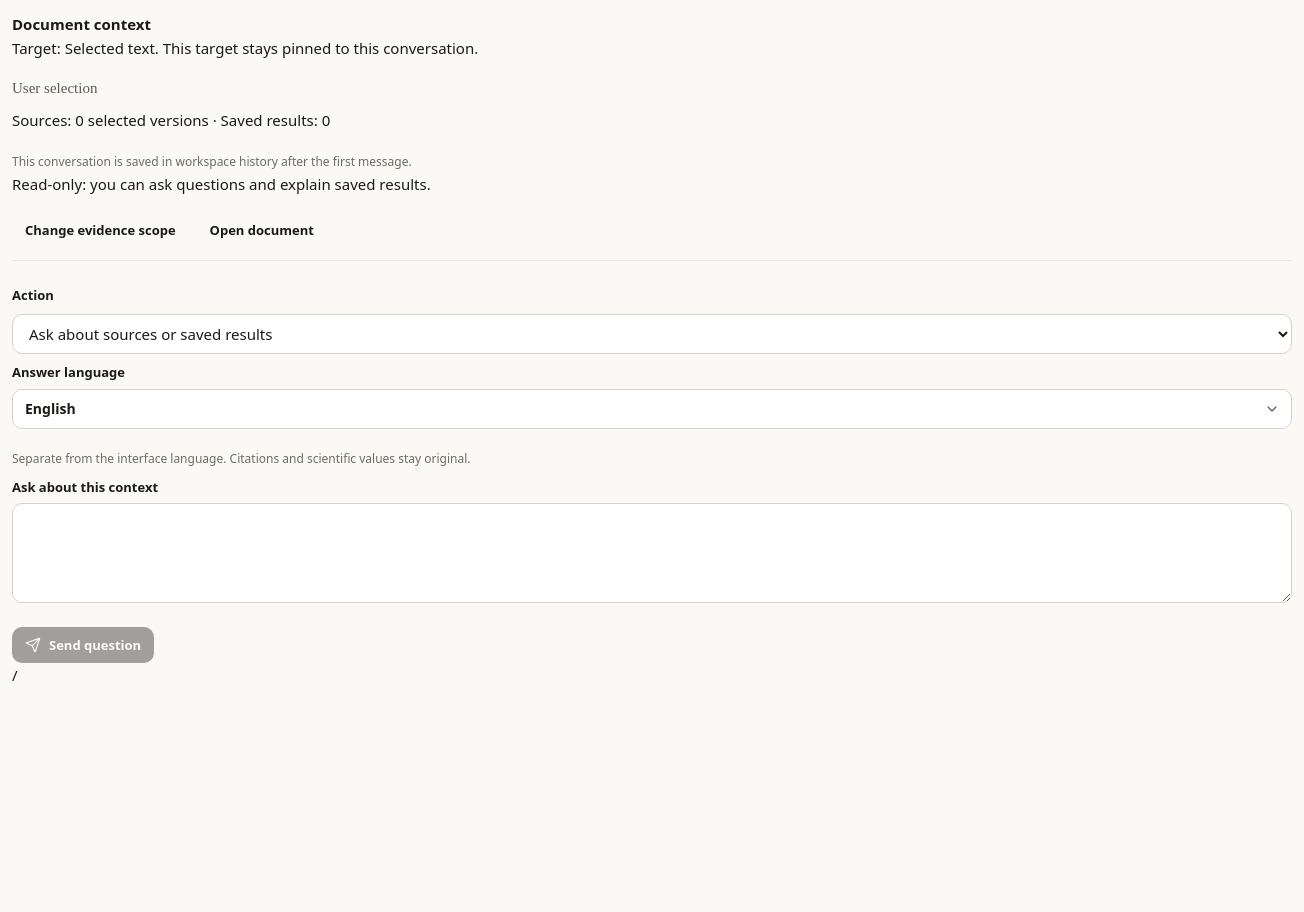
Test case: retries a lost first response with unchanged identities, context, instruction and scope
In the text box labelled "Ask about this context": (652, 553) [12,503,1292,603], type "Explain"
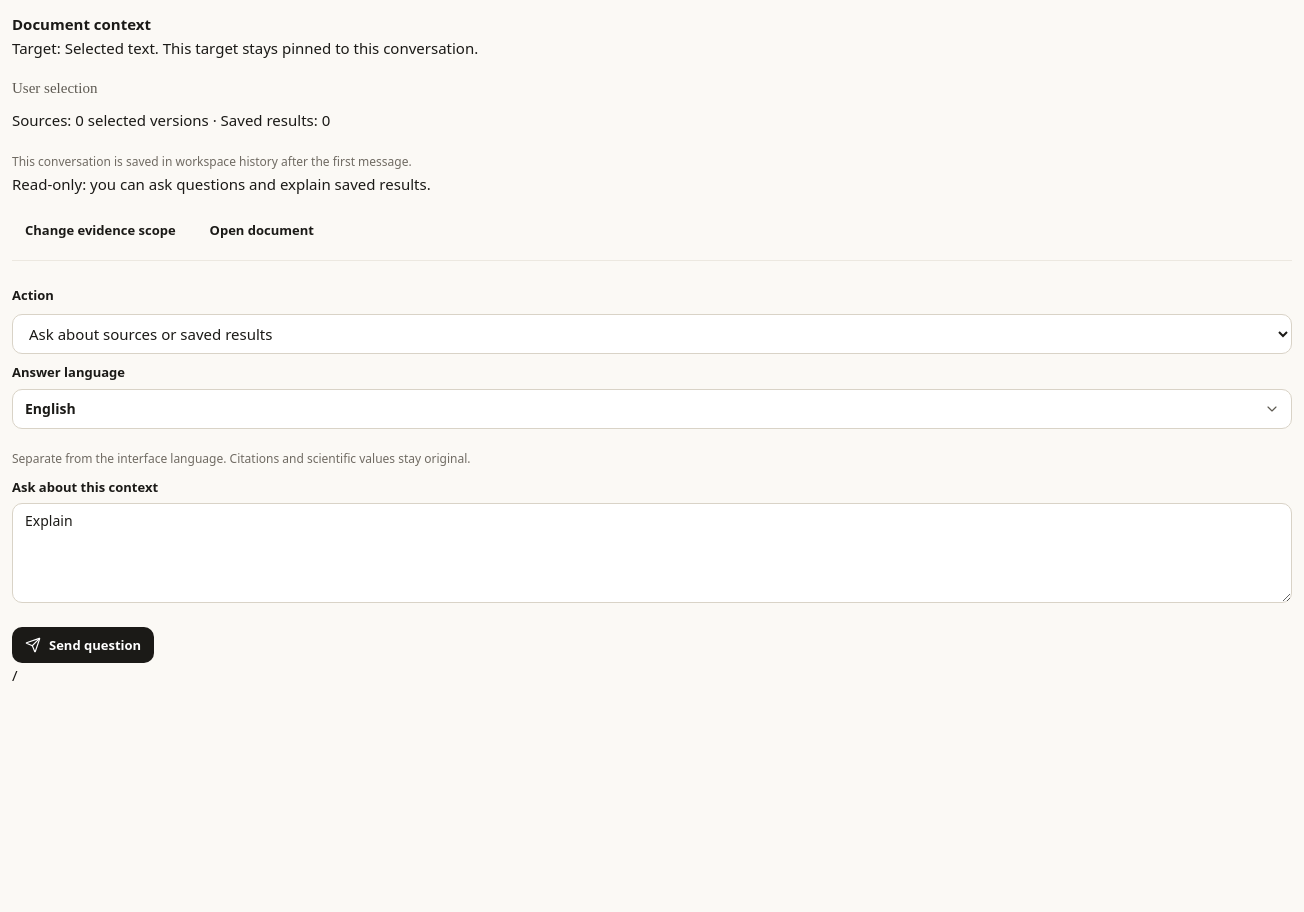
Click the button "Send question": (83, 645) [12,627,154,663]
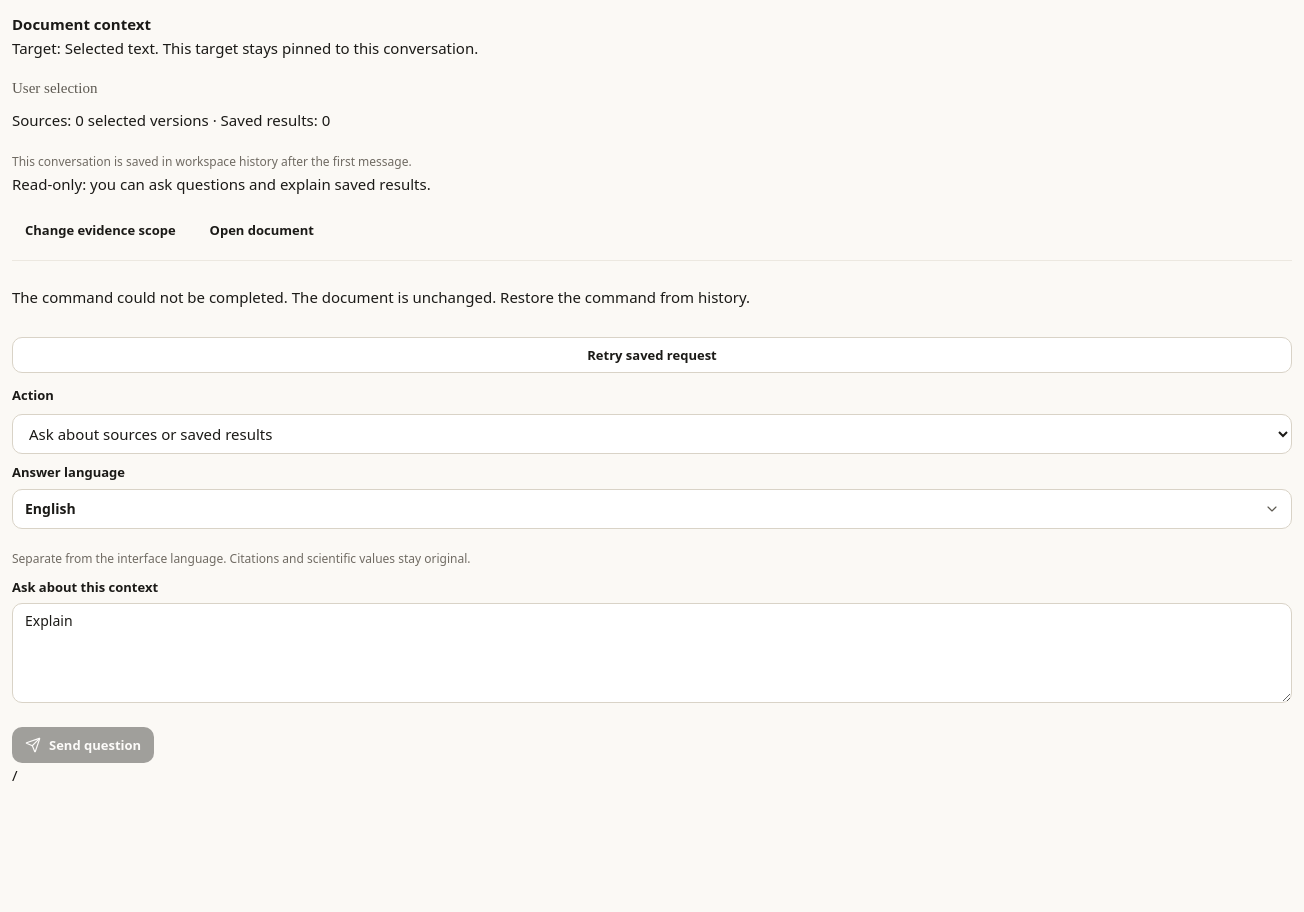
Expected: the button "Retry saved request" is shown
Expected: the button "Send question" is disabled, [12,727,154,763]
Click the button "Retry saved request": (652, 355) [12,337,1292,373]
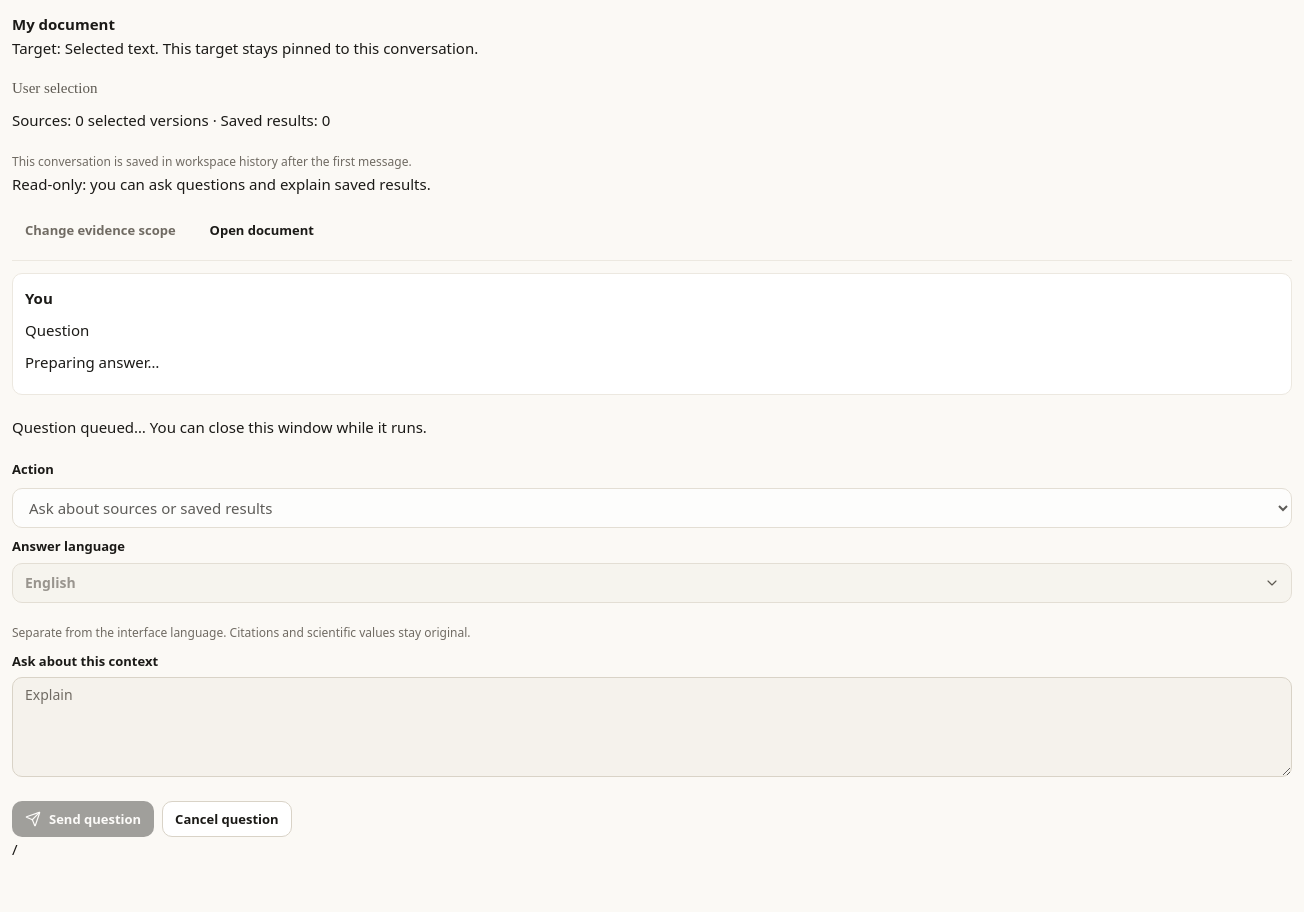
Expected: the button "Cancel question" is shown, [162,801,292,837]
